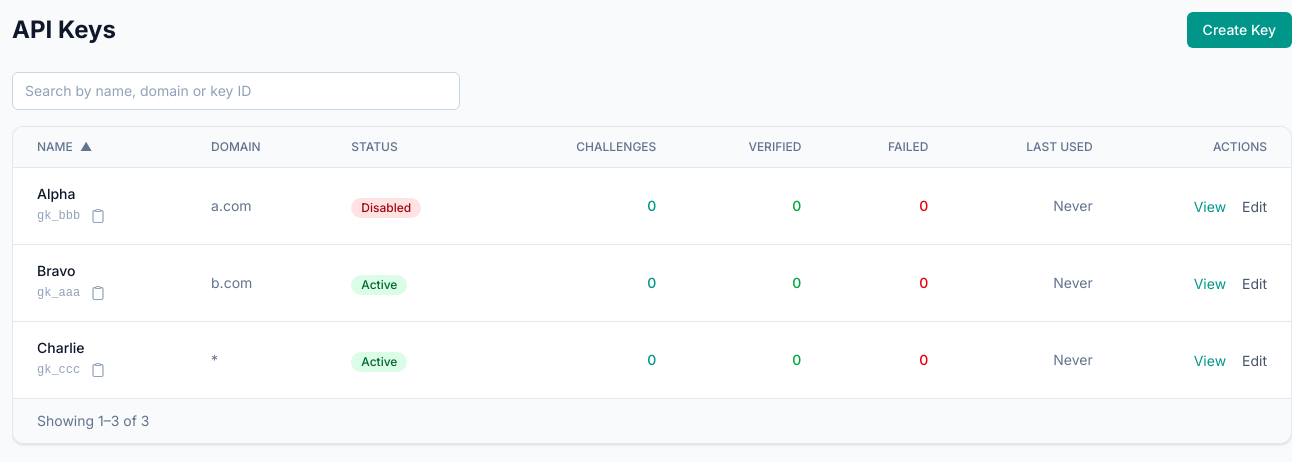
Test: ApiKeysView › shows a no-results state distinct from the empty state
The width and height of the screenshot is (1292, 462).
Type "nothingmatches" into the search field with id "key-search" at point(236, 91), box top-left (12, 72), bottom-right (460, 110)
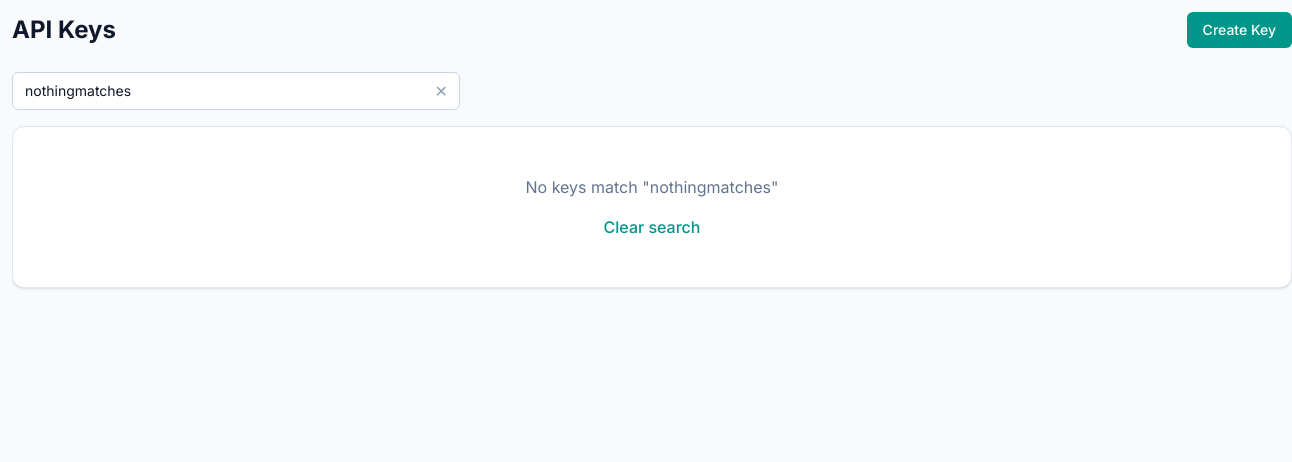
Expected: the text "No keys match \"nothingmatches\"" is shown, top-left (526, 177), bottom-right (778, 197)
